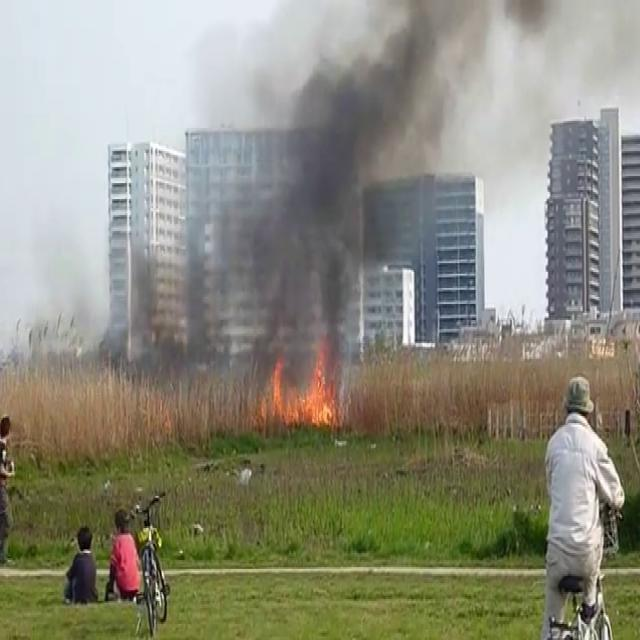Fire: (257, 338, 342, 436)
Smoke: (194, 0, 458, 395)
